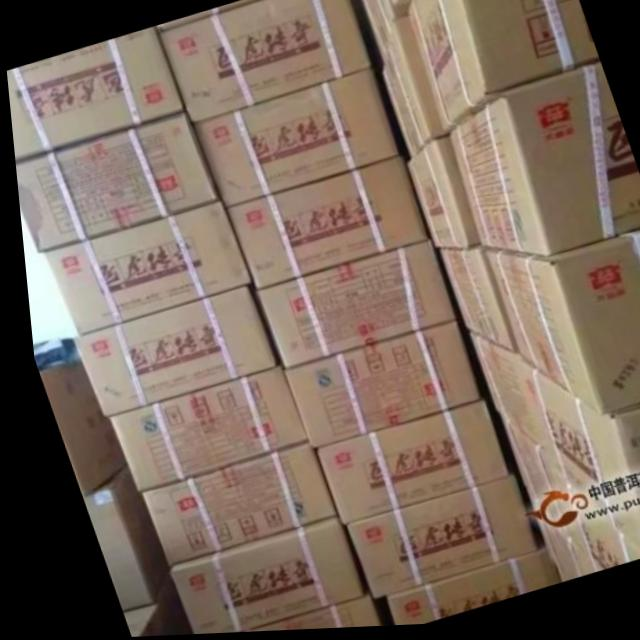box: (439, 67, 640, 259), (475, 233, 640, 420), (12, 110, 219, 249), (39, 200, 248, 334), (67, 287, 274, 419), (191, 74, 394, 208), (158, 0, 370, 125), (223, 157, 421, 290), (408, 0, 597, 139), (97, 367, 300, 494), (273, 324, 474, 451), (248, 245, 447, 373), (134, 439, 327, 570), (305, 407, 501, 529), (5, 28, 186, 160), (333, 478, 528, 600), (154, 518, 355, 635), (372, 546, 550, 628), (522, 371, 640, 494), (72, 465, 158, 612), (33, 363, 120, 496), (379, 12, 446, 161), (402, 142, 475, 253), (433, 253, 510, 354), (465, 341, 532, 454), (215, 597, 366, 634), (559, 512, 640, 576), (110, 570, 180, 638), (493, 425, 541, 514), (360, 0, 409, 63), (387, 0, 410, 6)
